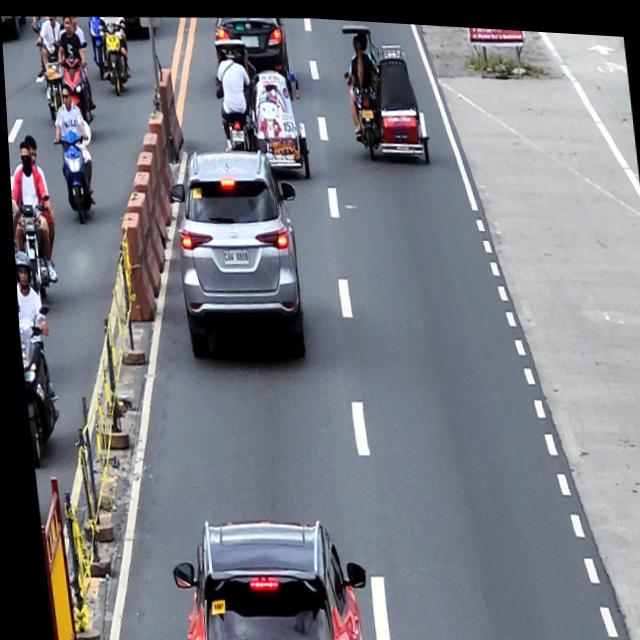Car: (163, 140, 310, 363), (159, 506, 367, 640), (213, 11, 291, 88)
License-Plate: (219, 243, 247, 263), (240, 32, 260, 47), (229, 127, 244, 141), (360, 105, 373, 116)
Motorcycle: (14, 299, 60, 468), (51, 130, 97, 225), (51, 38, 96, 131), (14, 201, 53, 300), (99, 18, 131, 95)
Tricycle: (210, 33, 312, 181), (339, 17, 431, 160)
